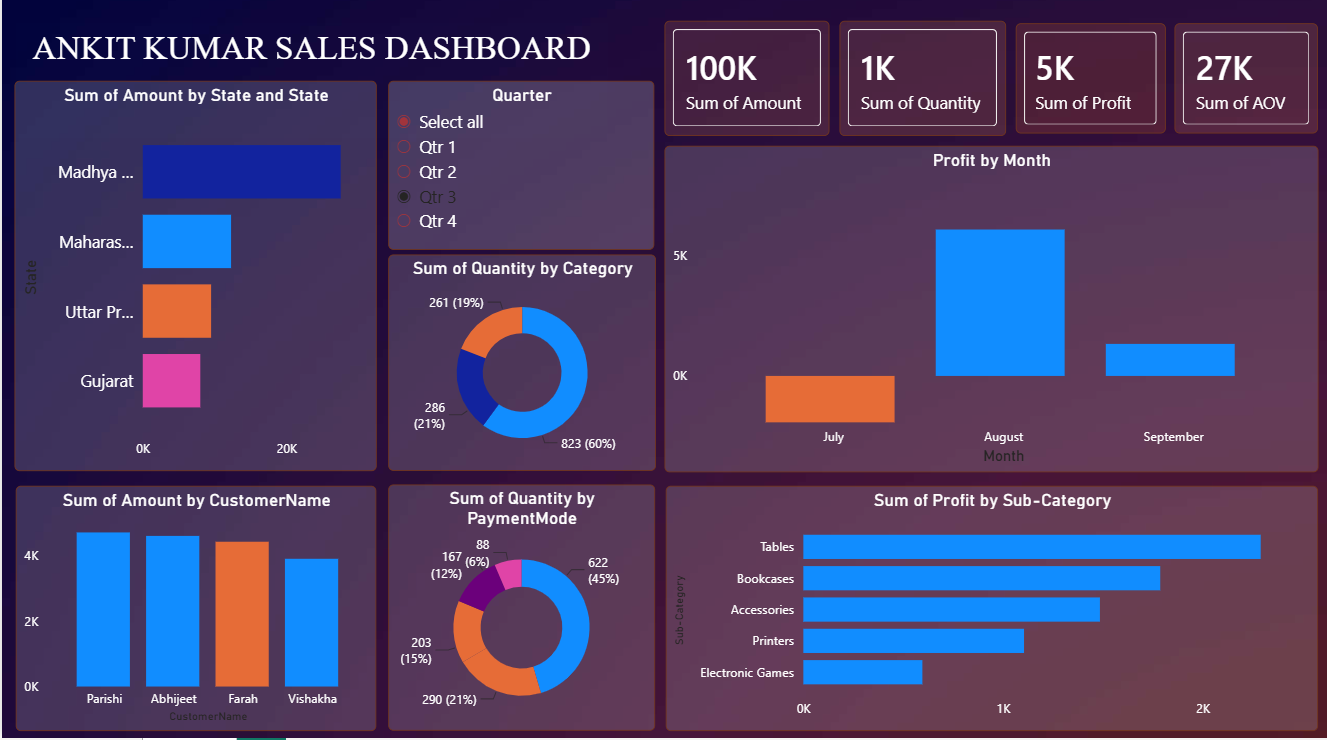

The page's visual inventory and layout, read from the dashboard file:
{"tool":"powerbi","page":{"name":"Page 1","canvas":[1280,720],"ordinal":0},"visuals":[{"type":"textbox","box":[13.3,30.3,571.5,110.4],"z":0},{"type":"columnChart","title":"Profit by Month","fields":{"Y":["Sum(Details.Profit)"],"Category":["Orders.Order Date.Variation.Date Hierarchy.Month"]},"box":[639.4,148,630.9,315.5],"z":1000},{"type":"barChart","fields":{"Category":["Details.Sub-Category"],"Y":["Sum(Details.Profit)"]},"box":[640.6,476.8,629.7,236.6],"z":2000},{"type":"donutChart","fields":{"Category":["Details.Category"],"Y":["Sum(Details.Quantity)"]},"box":[372.5,253.6,258.4,208.7],"z":3000},{"type":"donutChart","fields":{"Y":["Sum(Details.Quantity)"],"Category":["Details.PaymentMode"]},"box":[372.5,475.6,257.2,237.8],"z":4000},{"type":"cardVisual","fields":{"Data":["Sum(Details.Amount)"]},"box":[606.6,30.3,180.8,110.4],"z":5000},{"type":"cardVisual","fields":{"Data":["Sum(Details.Quantity)"]},"box":[776.5,30.3,179.6,110.4],"z":6000},{"type":"cardVisual","fields":{"Data":["Sum(Details.Profit)"]},"box":[954.8,30.3,163.8,105.6],"z":7000},{"type":"cardVisual","fields":{"Data":["Sum(Details.Column)"]},"box":[1110.1,27.9,160.2,105.6],"z":8000},{"type":"barChart","fields":{"Category":["Orders.State"],"Series":["Orders.State"],"Y":["Sum(Details.Amount)"]},"box":[12.1,148,349.4,314.2],"z":9000},{"type":"columnChart","fields":{"Category":["Orders.CustomerName"],"Y":["Sum(Details.Amount)"]},"box":[13.3,476.8,348.2,236.6],"z":10000},{"type":"listSlicer","fields":{"Values":["Orders.Order Date.Variation.Date Hierarchy.Quarter"]},"box":[372.5,148,257.2,100.7],"z":11000}]}

Visuals, with their boxes in screenshot pixels (x1, y1, x2, y2), scaled from the page's 1280x720 canvas onto the 1327x740 screenshot:
textbox: (14, 31, 606, 145)
"Profit by Month" columnChart: (663, 152, 1317, 476)
barChart - Details.Sub-Category x Sum(Details.Profit): (664, 490, 1317, 733)
donutChart - Details.Category x Sum(Details.Quantity): (386, 261, 654, 475)
donutChart - Sum(Details.Quantity) x Details.PaymentMode: (386, 489, 653, 733)
cardVisual - Sum(Details.Amount): (629, 31, 816, 145)
cardVisual - Sum(Details.Quantity): (805, 31, 991, 145)
cardVisual - Sum(Details.Profit): (990, 31, 1160, 140)
cardVisual - Sum(Details.Column): (1151, 29, 1317, 137)
barChart - Orders.State x Orders.State: (13, 152, 375, 475)
columnChart - Orders.CustomerName x Sum(Details.Amount): (14, 490, 375, 733)
listSlicer - Orders.Order Date.Variation.Date Hierarchy.Quarter: (386, 152, 653, 256)
